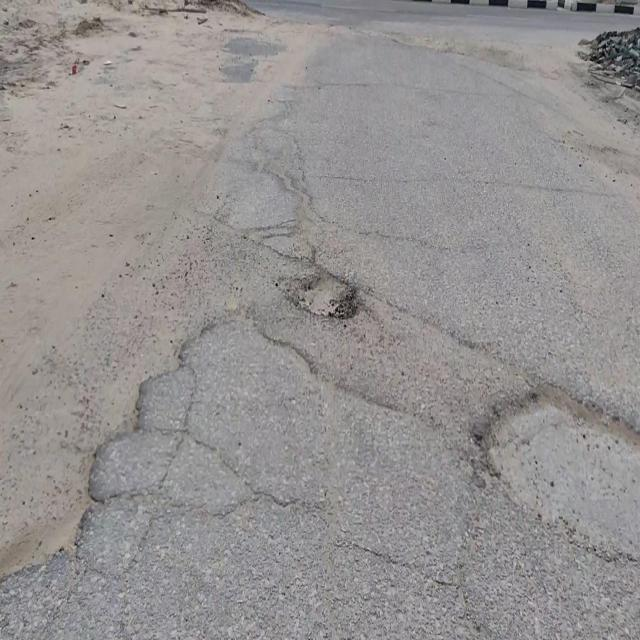Potholes: (0, 313, 184, 589), (478, 374, 640, 567), (283, 263, 358, 323)
